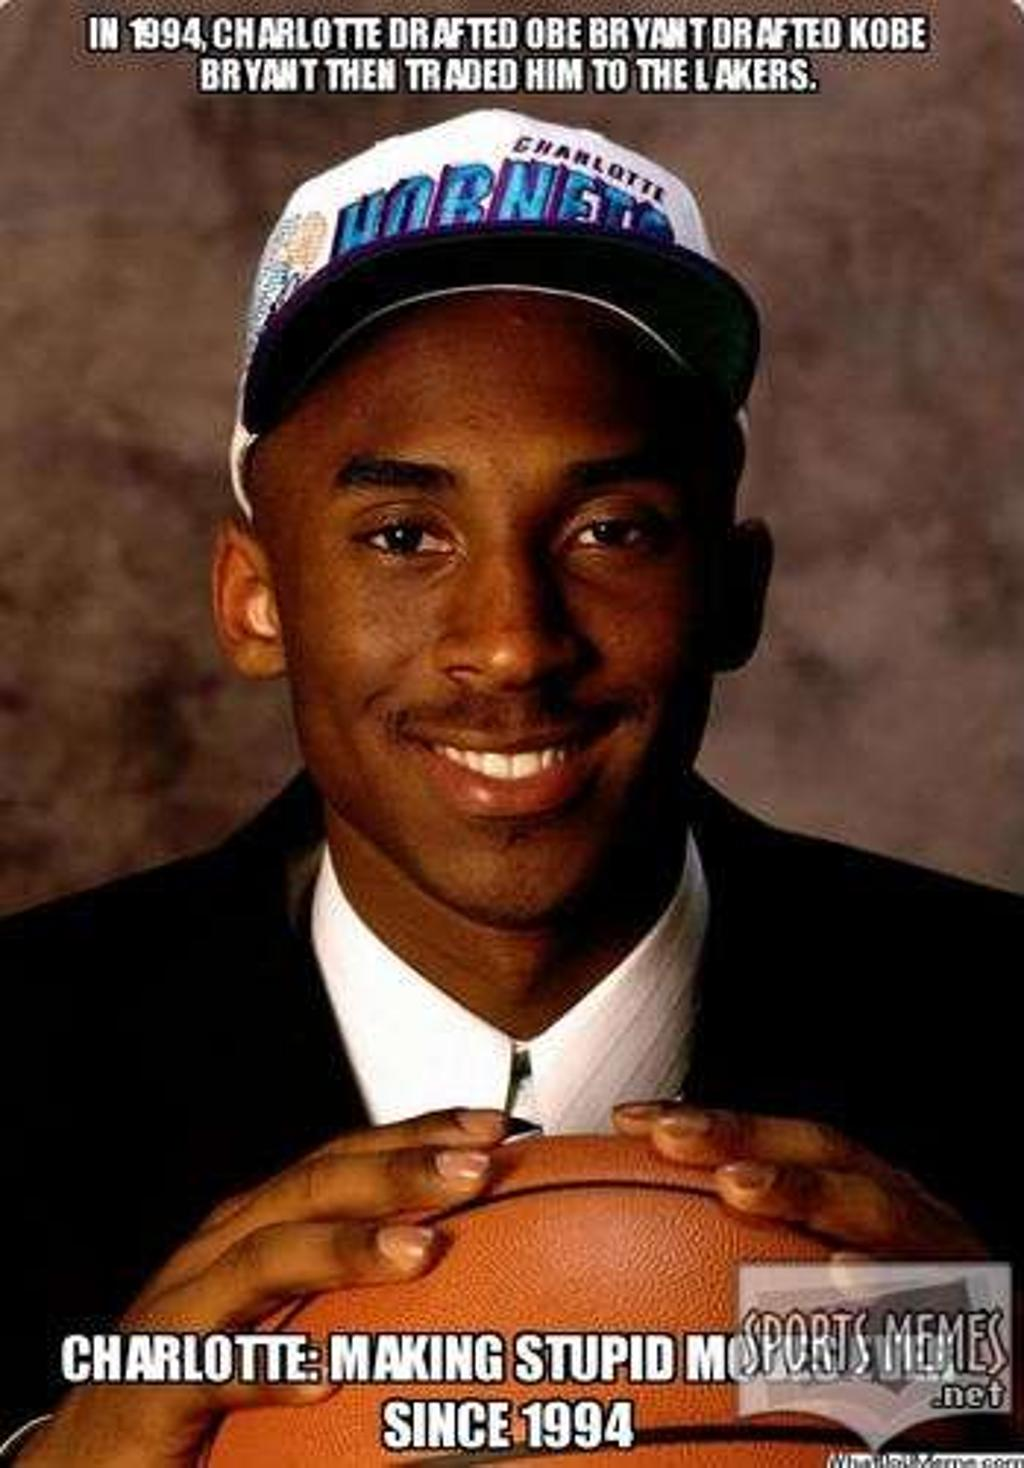face: (290, 350, 717, 929)
